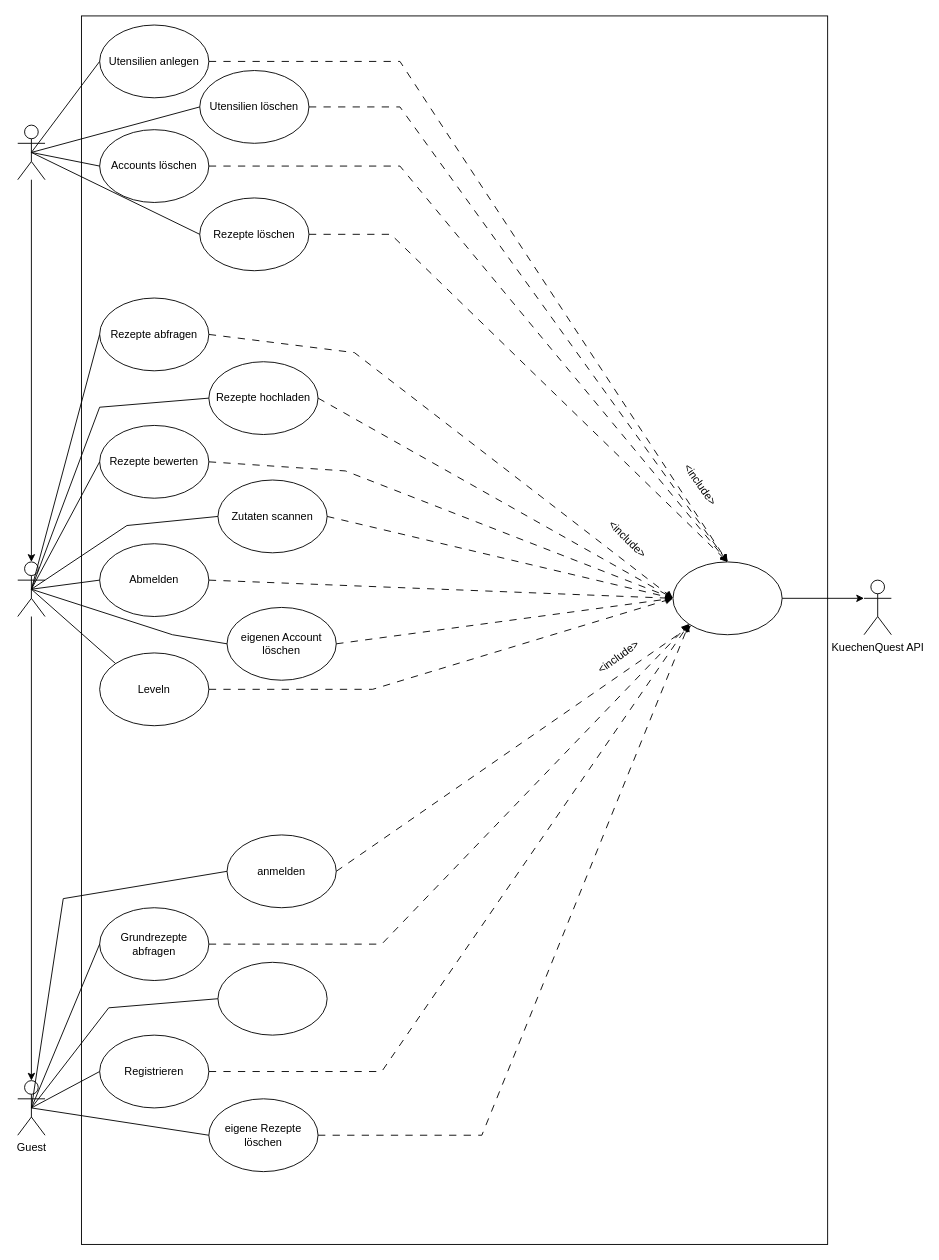
Some shapes in this 939 by 1260 pixel diagram are drawn without their labels. Here are the shapes that lost their labels. From the top down, the centre of each, then its label:
the point at 31,152: Admin
the point at 31,589: User
the point at 727,598: Datenbank abfragen
the point at 272,998: Rezepte lokal anlegen
